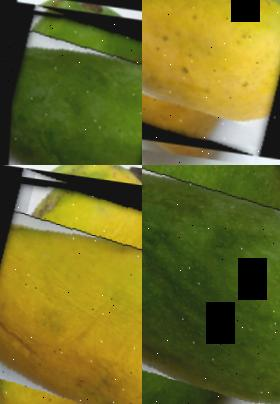Ripe: (0, 170, 142, 404), (142, 0, 280, 152)
Unripe: (142, 165, 280, 404), (0, 6, 142, 165)
